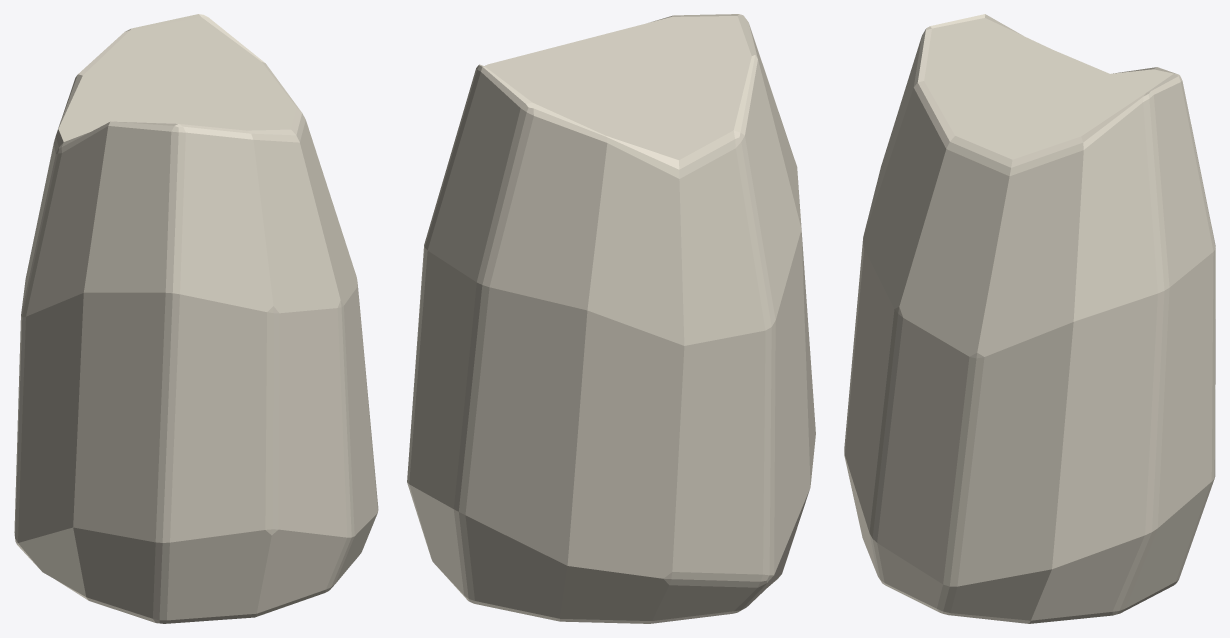
Rendered from Test_CheonRef_RockC.fbx.
The picture shows the model from 3 angles, left to right: view 1: azimuth 30°, elevation 25°; view 2: azimuth 150°, elevation 25°; view 3: azimuth 270°, elevation 25°; orthographic projection. The views are drawn at different scales.
Visible parts, largest first — view 1: BroadGraniteRock.002; view 2: BroadGraniteRock.002; view 3: BroadGraniteRock.002.
Boxes of the visible parts, <box> form: BroadGraniteRock.002: <box>14,14,378,623</box>; BroadGraniteRock.002: <box>407,14,815,623</box>; BroadGraniteRock.002: <box>844,14,1215,623</box>.
Size of the model in its own units: 155 by 222 by 151.
